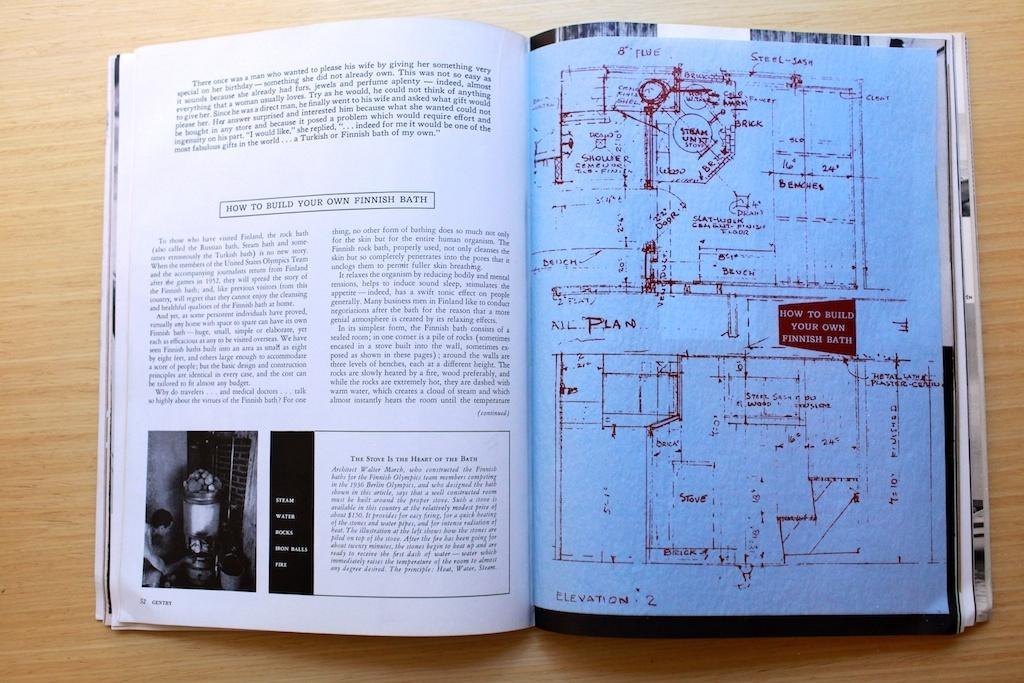book: (99, 16, 998, 646)
